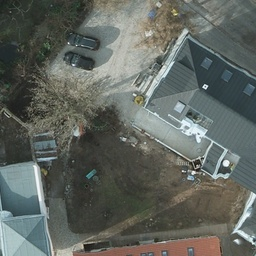car: (65, 32, 98, 51), (62, 54, 93, 70)
